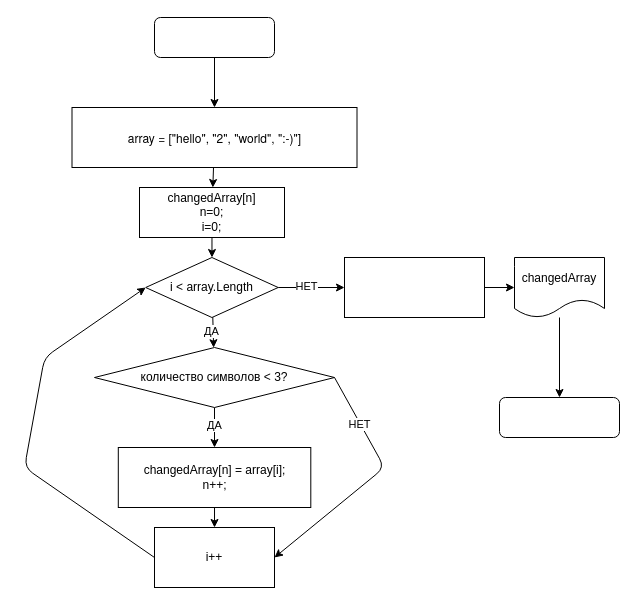
The diagram is 637 pixels wide and 605 high, and some of its shapes have lost their labels. The shapes that lost their labels are listed below. From the top down, each one's box as (x1, y1, x2, y2) in pixels, then its label:
(154, 16, 274, 58): Start
(344, 256, 484, 318): Array.Resize(ref changedArray, n)
(498, 396, 620, 438): Finish
